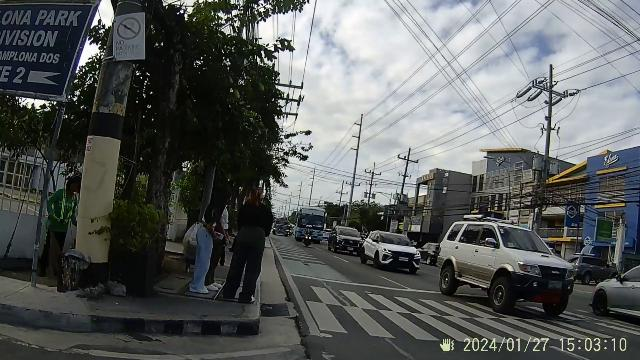potted_plant: (114, 199, 166, 297)
utility_post: (70, 50, 136, 278), (520, 59, 574, 163)
